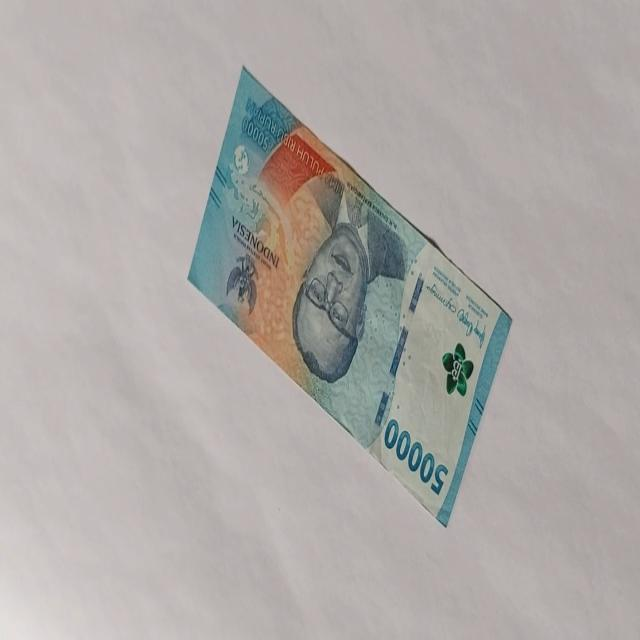lima puluh ribu rupiah: (186, 64, 514, 528), (382, 416, 450, 497)
